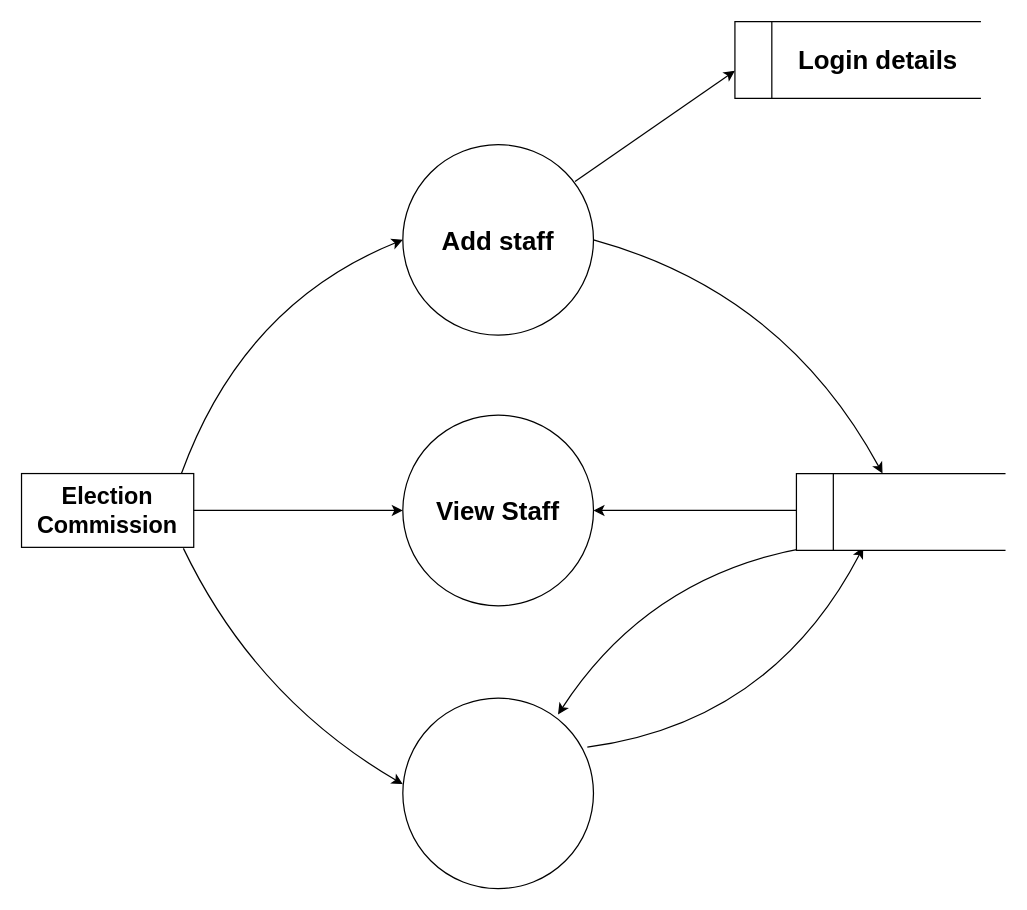
Some shapes in this 1027 by 910 pixel diagram are drawn without their labels. Each missing label, with the centre of its shape:
"Edit, Delete staff" goes at point 497,793.
"Staff details" goes at point 900,511.
